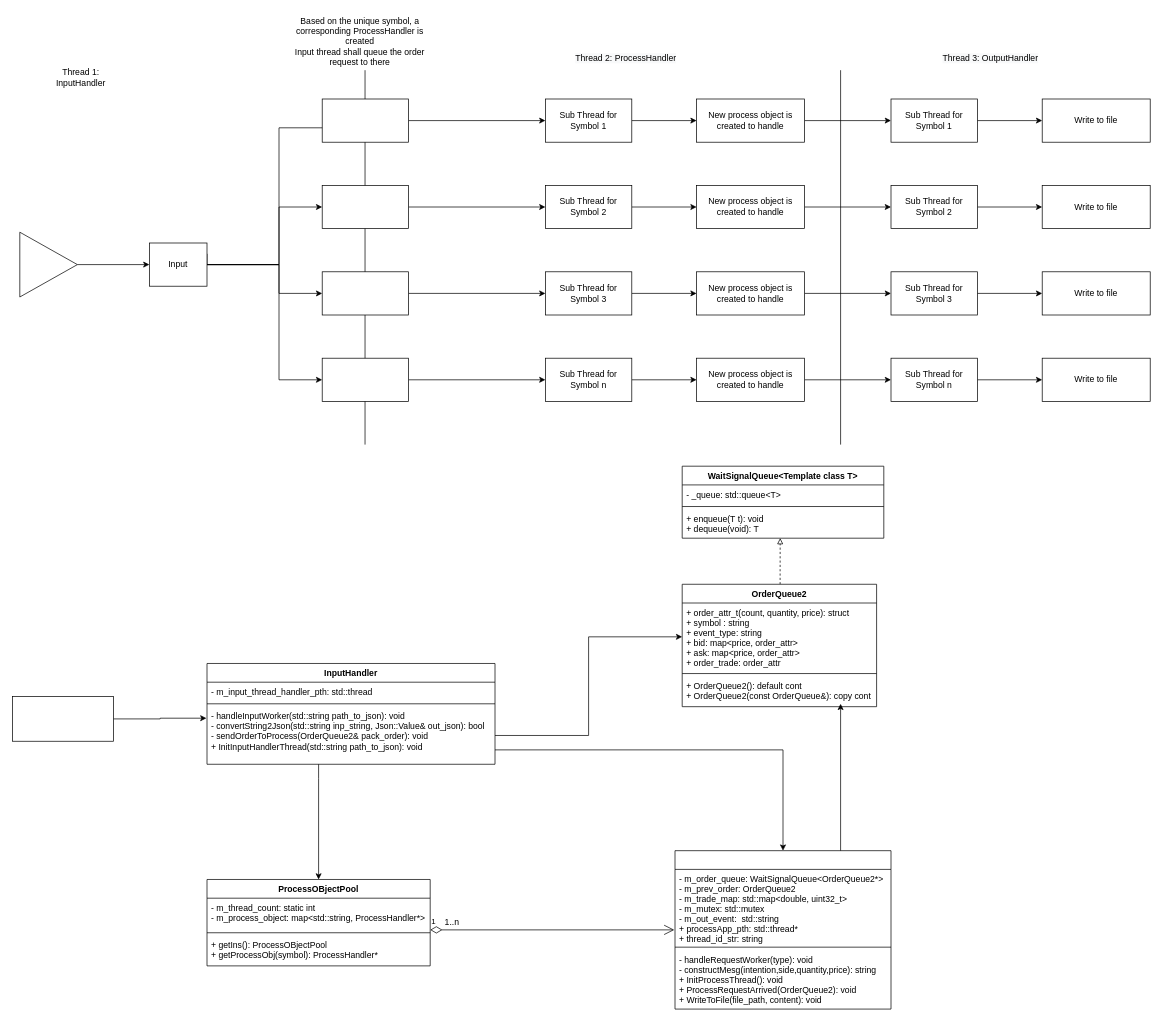
This 1163x1023 diagram has some shape labels left out. The shapes that lost their labels are listed below. From the top down, each one's box as (x1, y1, x2, y2) in pixels, then its label:
(321, 98, 409, 142): Queue class for thread of Symbol 1
(321, 185, 409, 229): Queue class for thread of Symbol 2
(19, 231, 77, 297): JSON file
(321, 271, 409, 315): Queue class for thread of Symbol 3
(321, 357, 409, 401): Queue class for thread of Symbol n
(12, 696, 113, 741): main entry
(674, 850, 891, 1009): ProcesHandler
